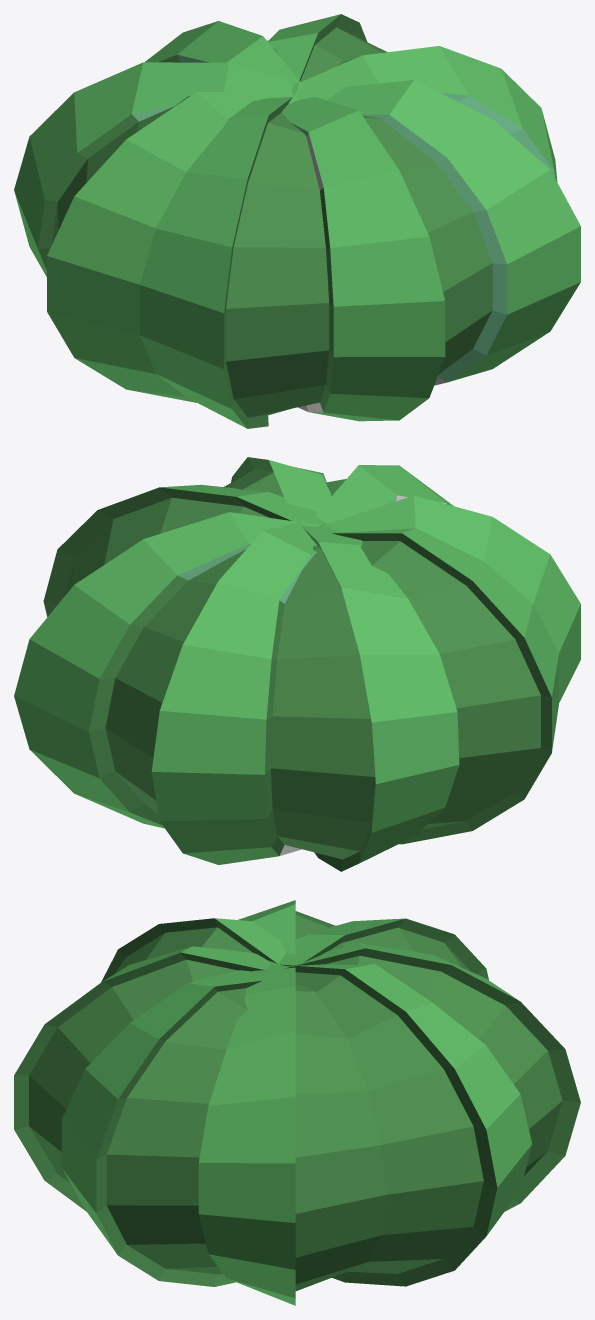
Rendered from veggie-type02.obj.
3 views of the same model, one above another, from view 1: azimuth 30°, elevation 25°; view 2: azimuth 150°, elevation 25°; view 3: azimuth 270°, elevation 25° (orthographic). The views are drawn at different scales.
Visible parts, largest first — view 1: veggie-type02; view 2: veggie-type02; view 3: veggie-type02.
Boxes of the visible parts, x1,y1,x2,y2 form: veggie-type02: (14, 14, 580, 428); veggie-type02: (14, 457, 580, 871); veggie-type02: (14, 900, 580, 1305).
Size of the model in its own units: 0.2128 by 0.1316 by 0.2128.
